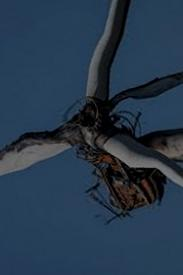faulty: (22, 62, 167, 221)
